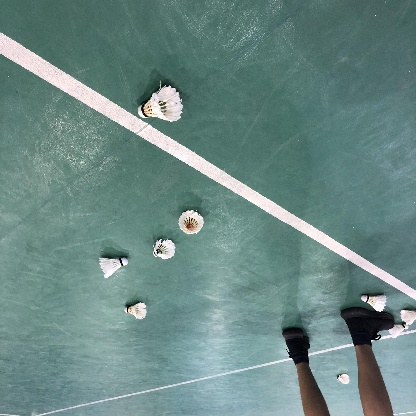ball_single: (138, 85, 183, 122), (99, 257, 128, 279), (178, 210, 204, 234), (361, 294, 387, 313), (153, 239, 175, 259), (124, 302, 147, 319), (388, 324, 409, 338), (400, 310, 416, 325), (337, 374, 349, 384)
